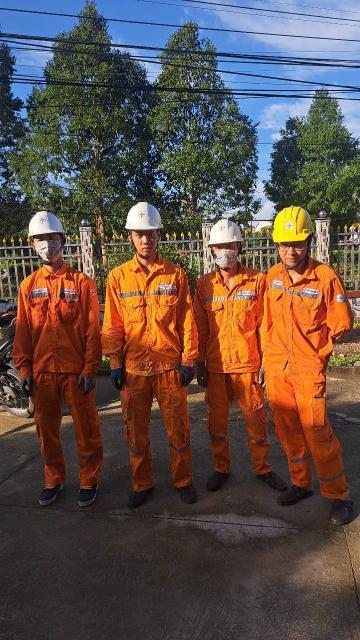gloves: (75, 373, 101, 400), (12, 373, 39, 398), (195, 357, 216, 389), (108, 364, 127, 391), (180, 363, 196, 392)
helmet: (260, 204, 322, 244), (18, 212, 75, 241), (120, 198, 167, 233), (207, 216, 249, 248)
shoes: (322, 484, 356, 533), (121, 478, 160, 515), (253, 458, 291, 492), (278, 475, 318, 506), (172, 473, 207, 508), (35, 478, 75, 505), (203, 456, 229, 495), (74, 471, 100, 509)
